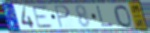4: (21, 5, 36, 30)
8: (74, 4, 91, 30)
E: (31, 5, 55, 29)
L: (95, 6, 115, 28)
O: (113, 4, 134, 29)
P: (53, 5, 72, 29)
